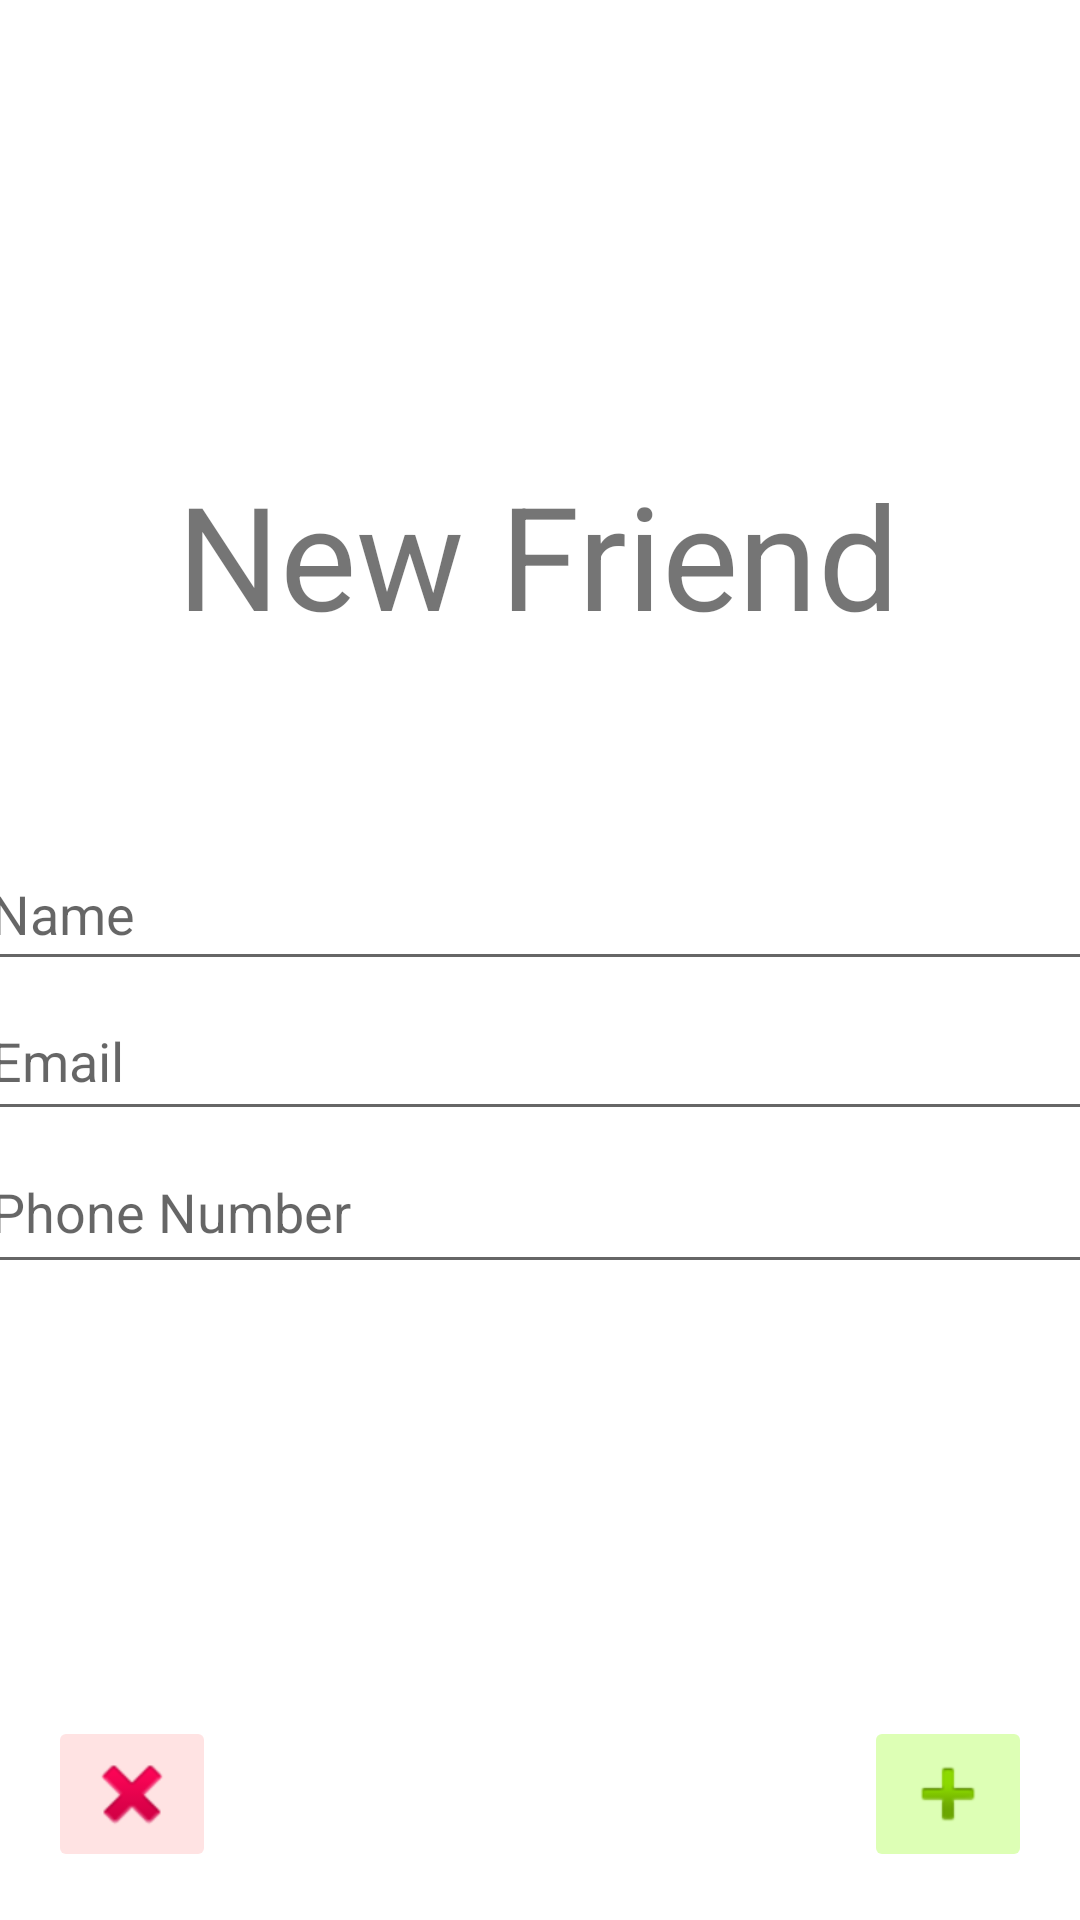

Named icons in this screenshot (1080x1920) and their centers, [x,y]:
Add: [948,1794]
Delete: [132,1794]
